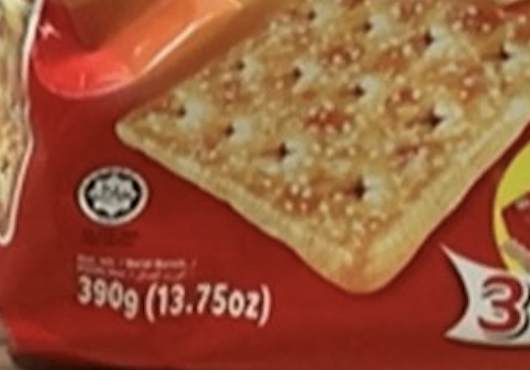halal: (85, 181, 134, 206)
